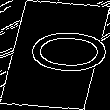O_E: (3, 30, 107, 80)
